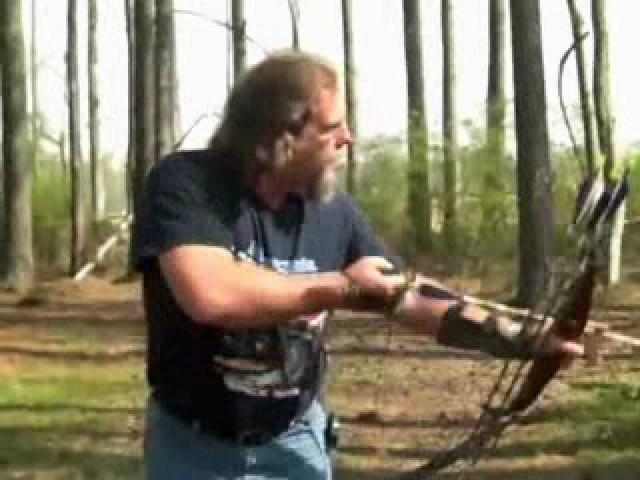I: (114, 53, 600, 438)
